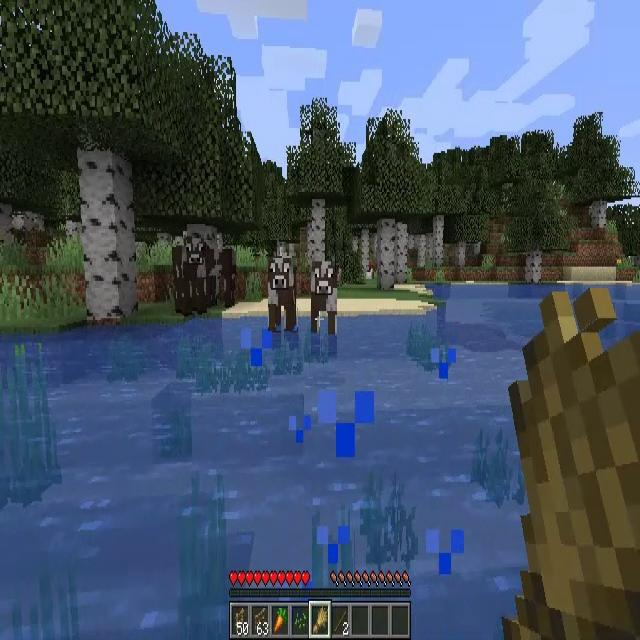cow: (175, 241, 208, 313), (268, 258, 297, 331), (206, 242, 238, 306), (311, 260, 336, 336)
